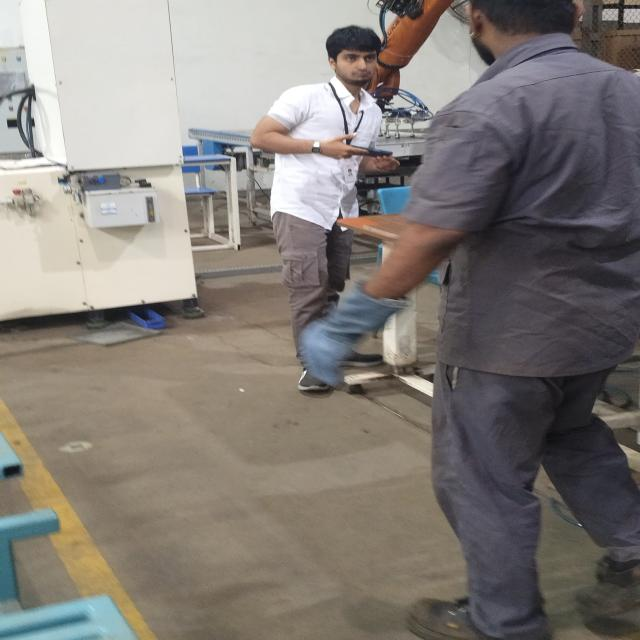Gloves-Detection: (292, 290, 397, 380)
